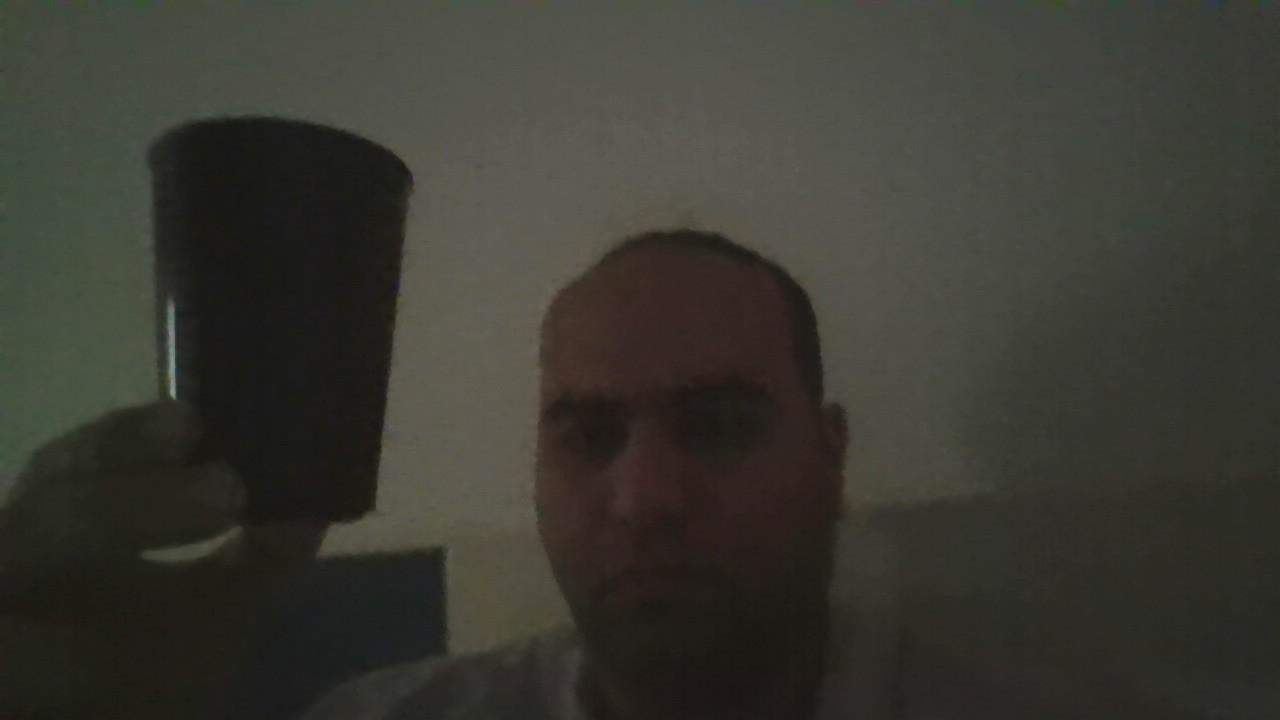cup: (149, 117, 412, 522)
